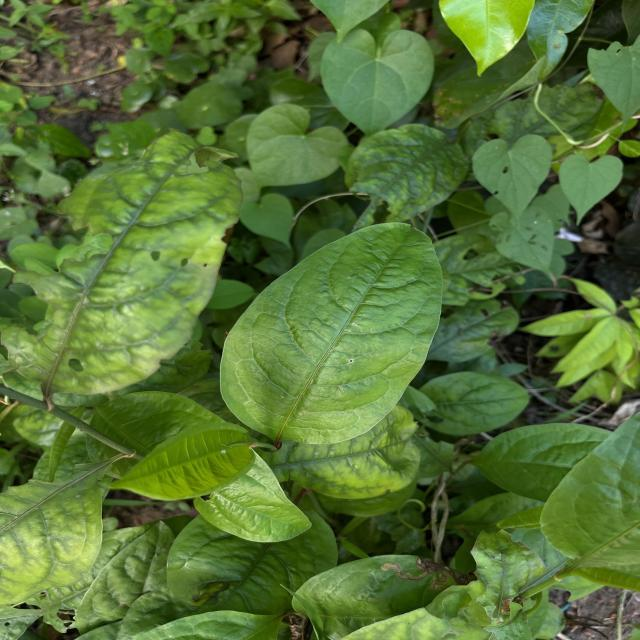Plumbago indica: (214, 218, 444, 448), (343, 121, 471, 222), (103, 426, 254, 502), (422, 369, 530, 436)
